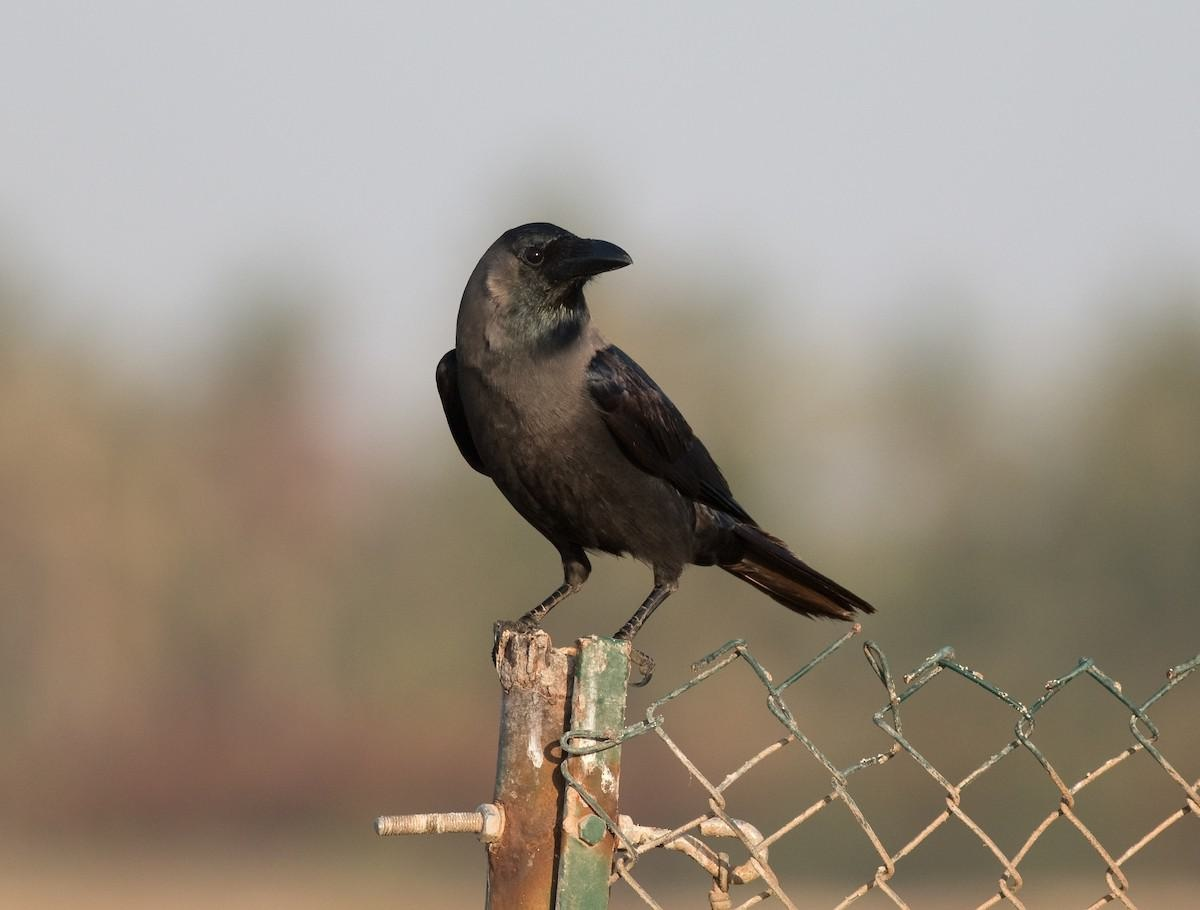crow: (423, 215, 866, 655)
